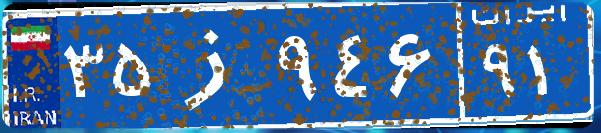1: (525, 38, 570, 115)
3: (57, 26, 110, 107)
4: (330, 28, 385, 110)
5: (110, 28, 158, 105)
6: (385, 28, 445, 110)
9: (273, 28, 330, 110), (475, 38, 525, 113)
ز: (158, 15, 273, 115)
